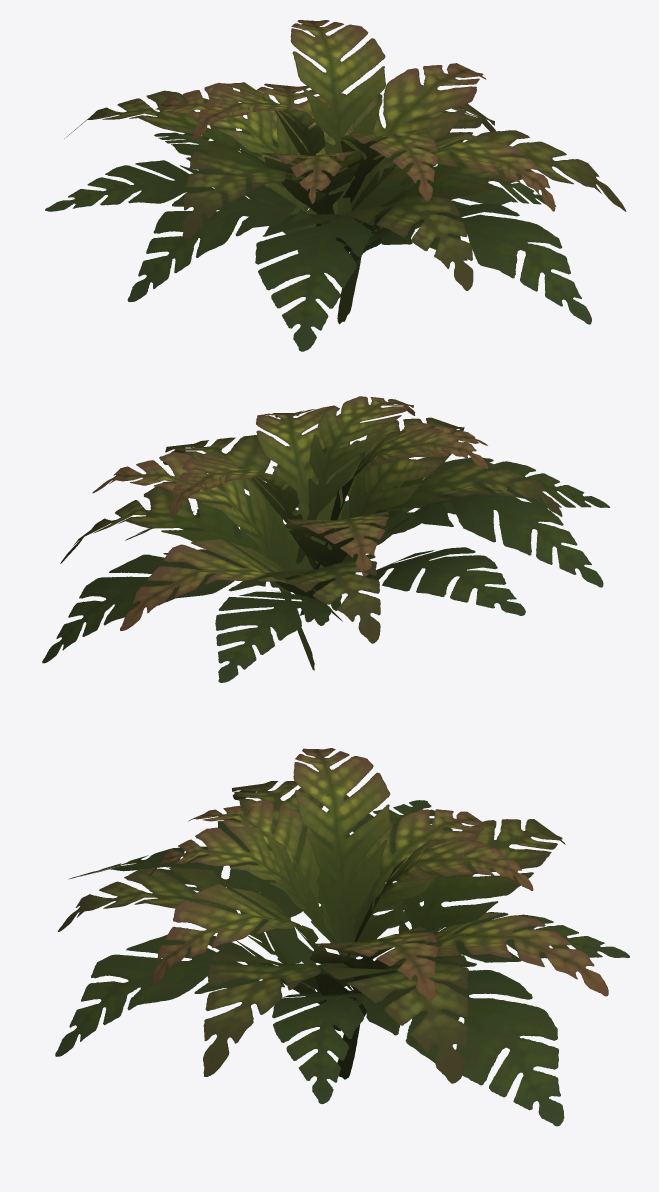
Rendered from 2_Plant_GuanMu_01.FBX.
3 views of the same model, one above another, from view 1: azimuth 30°, elevation 25°; view 2: azimuth 150°, elevation 25°; view 3: azimuth 270°, elevation 25° (orthographic). The views are drawn at different scales.
Visible parts, largest first — view 1: 2_Plant_GuanMu_01; view 2: 2_Plant_GuanMu_01; view 3: 2_Plant_GuanMu_01.
Part boxes in pixels (box(x1,y1,x2,y2)): 2_Plant_GuanMu_01: box(45, 20, 626, 351); 2_Plant_GuanMu_01: box(42, 396, 609, 682); 2_Plant_GuanMu_01: box(55, 748, 629, 1126).
Size of the model in its own units: 129 by 68 by 131.
Materials: 1 (1 with a texture image).
